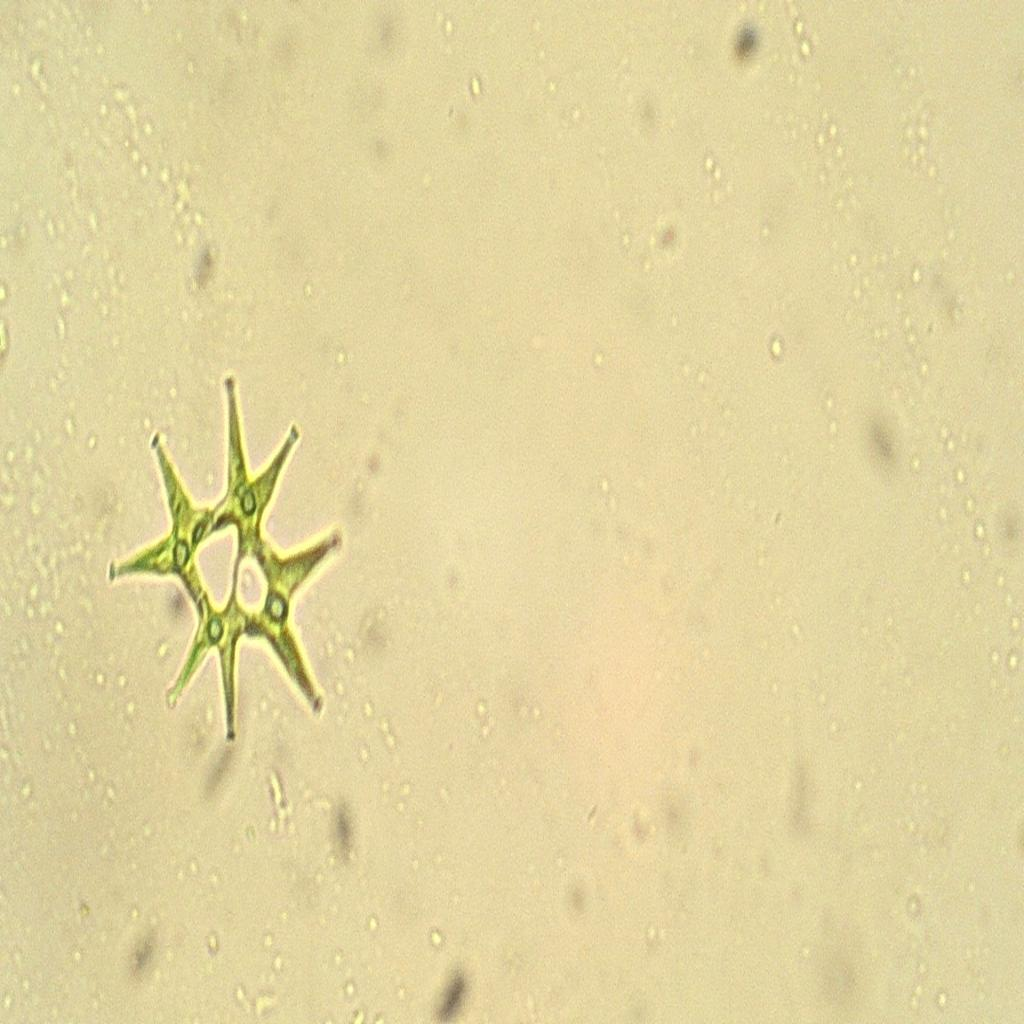Pediastrum_75FO: (96, 357, 369, 756)
